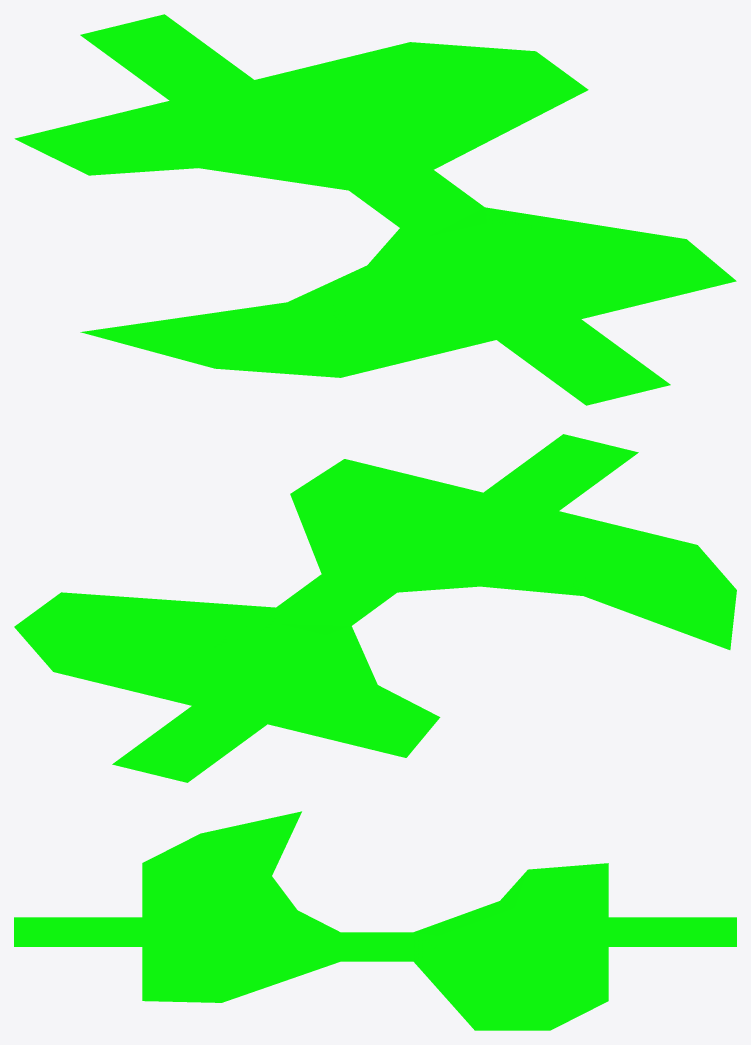
File: s05a_ib2-floor.glb
3 views of the same model, one above another, from view 1: azimuth 30°, elevation 25°; view 2: azimuth 150°, elevation 25°; view 3: azimuth 270°, elevation 25° (orthographic). The views are drawn at different scales.
Parts seen in each view (by area): view 1: collision_floor-colonly; view 2: collision_floor-colonly; view 3: collision_floor-colonly.
Part boxes in pixels (x1=…): collision_floor-colonly: x1=14, y1=14, x2=736, y2=405; collision_floor-colonly: x1=14, y1=434, x2=736, y2=782; collision_floor-colonly: x1=14, y1=811, x2=736, y2=1030.
Size of the model in its own units: 44.51 by 0.00781 by 62.
